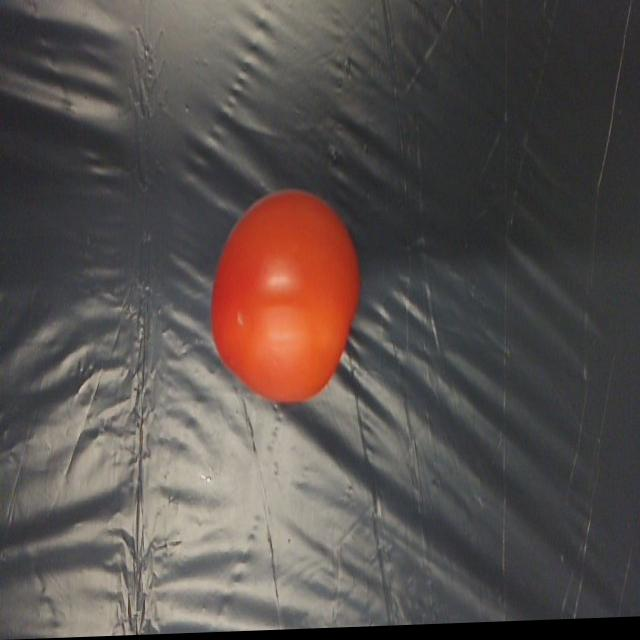kirmizi: (186, 159, 360, 423)
